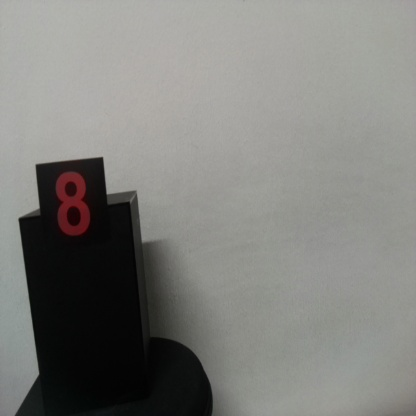id_8: (36, 165, 108, 253)
